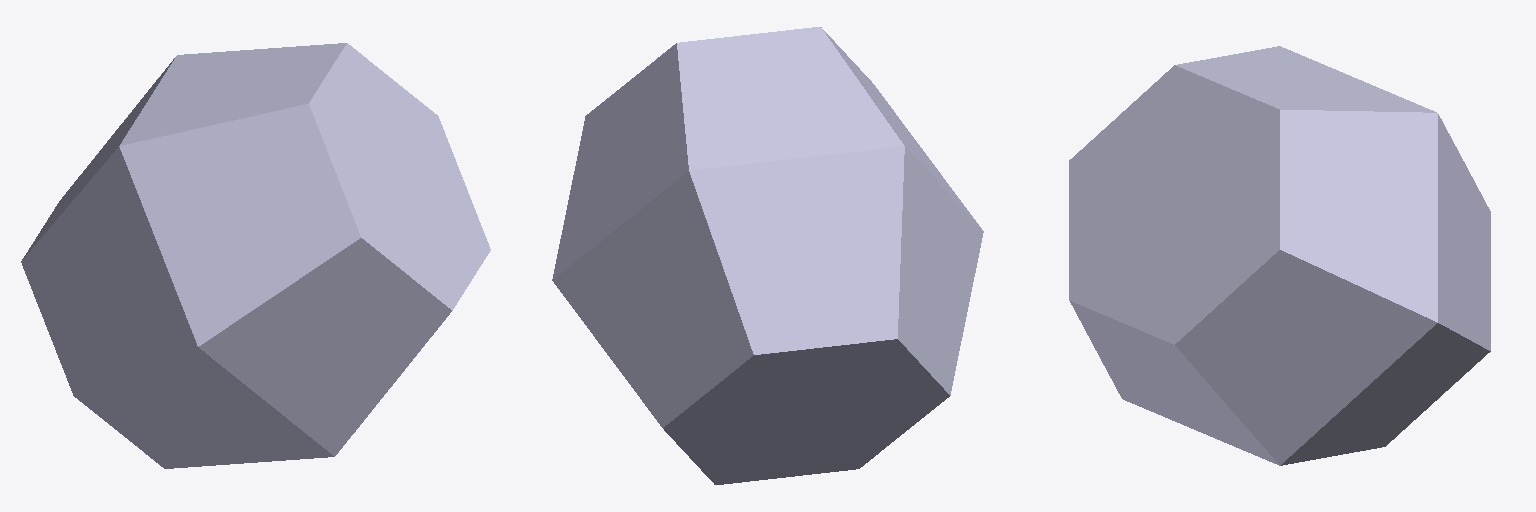
Rendered from fluorite-twin.obj.
3 renders of one model, left to right at view 1: azimuth 30°, elevation 25°; view 2: azimuth 150°, elevation 25°; view 3: azimuth 270°, elevation 25°, orthographic.
Size of the model in its own units: 1.85 by 1.85 by 1.85.